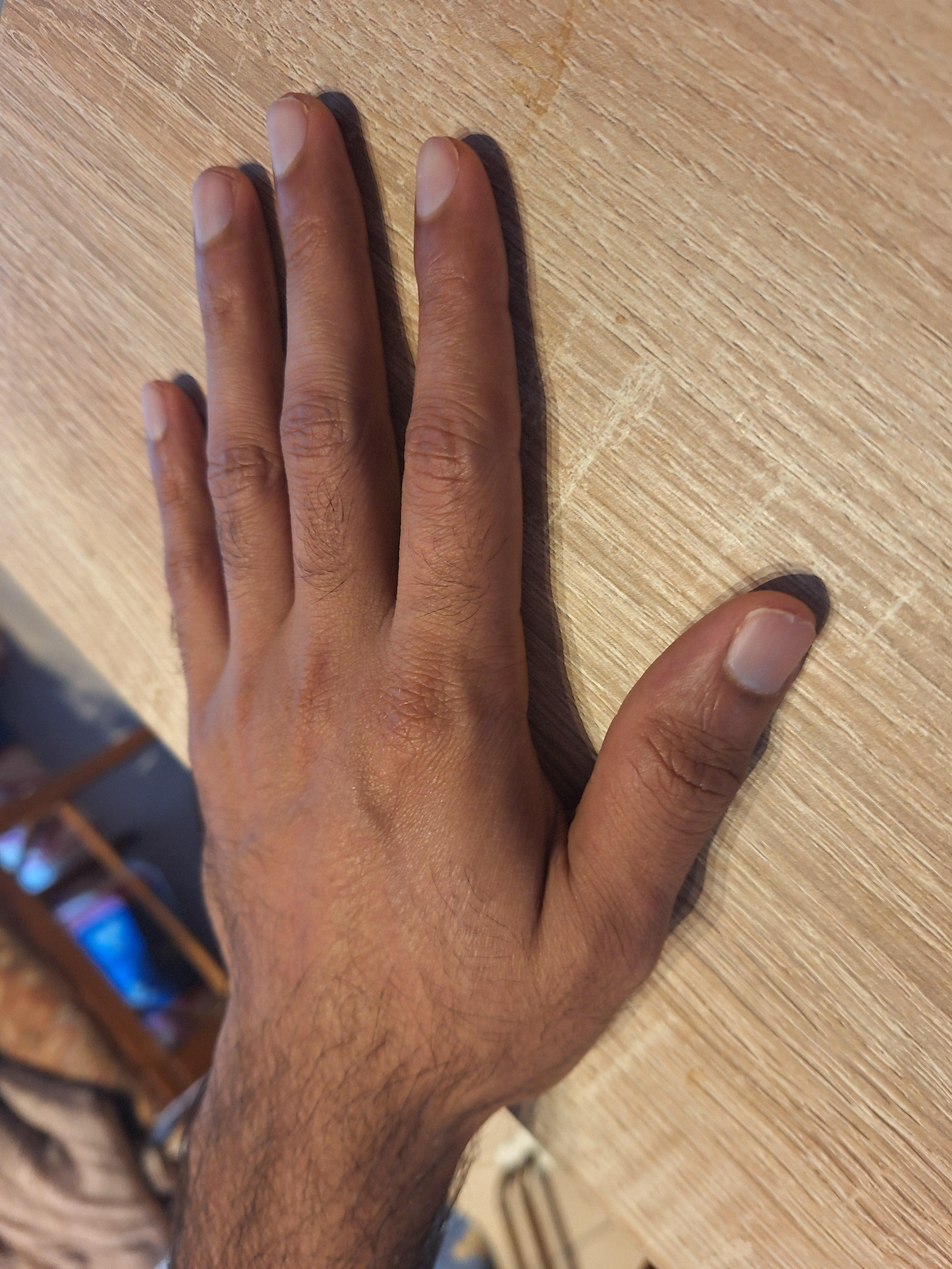Fingernail: (726, 608, 815, 694), (416, 136, 459, 216), (266, 97, 308, 177), (193, 172, 235, 245), (142, 383, 168, 442)
